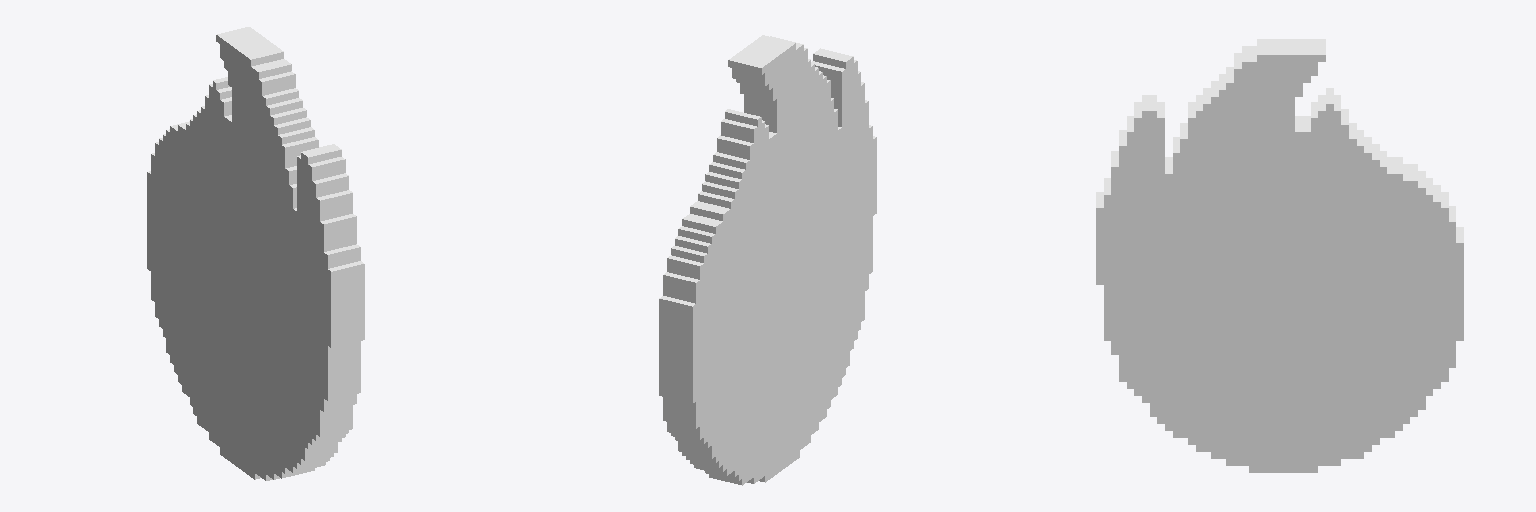
The model's file is boss_encounter.vox.obj.
3 renders of one model, left to right at view 1: azimuth 30°, elevation 25°; view 2: azimuth 150°, elevation 25°; view 3: azimuth 270°, elevation 25°, orthographic.
Parts seen in each view (by area): view 1: object 1; view 2: object 1; view 3: object 1.
Part boxes in pixels (bbox=[...]): object 1: bbox=[147, 27, 364, 480]; object 1: bbox=[659, 35, 876, 485]; object 1: bbox=[1096, 39, 1463, 472].
Bounding box in the file's own units: 0.5 × 6 × 4.8.